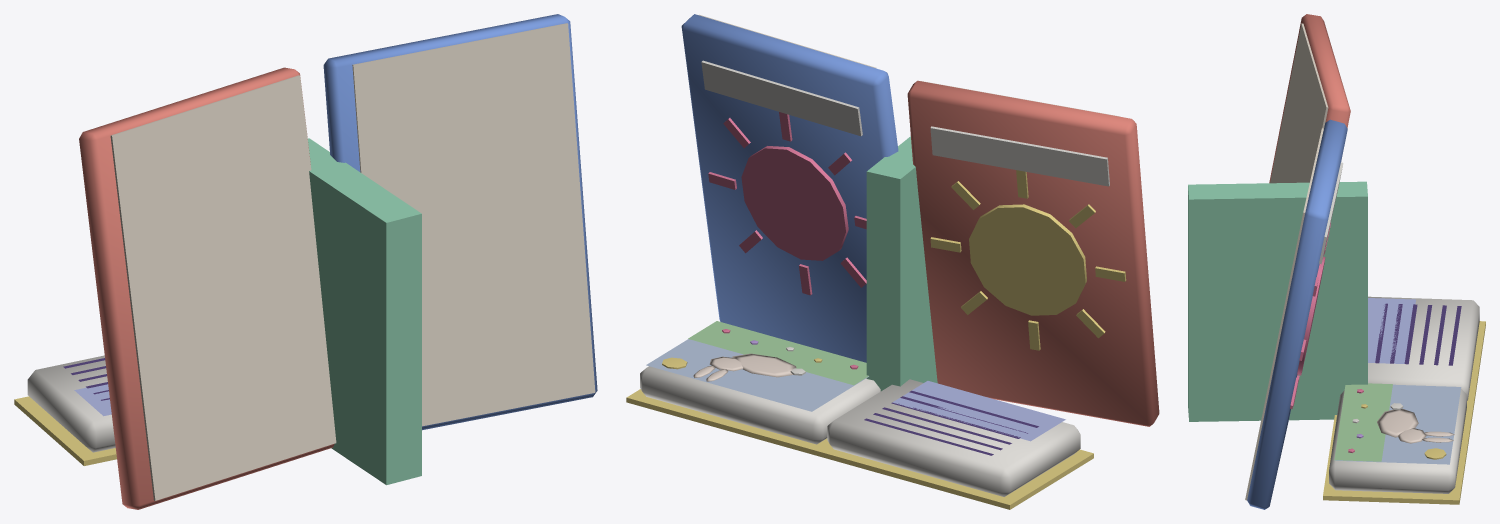
File: books_childrens.glb
3 views of the same model, side by side, from view 1: azimuth 30°, elevation 25°; view 2: azimuth 150°, elevation 25°; view 3: azimuth 270°, elevation 25° (orthographic). The views are drawn at different scales.
Visible parts, largest first — view 1: books_childrens; view 2: books_childrens; view 3: books_childrens.
Boxes of the visible parts, x1,y1,x2,y2 form: books_childrens: (14,14,597,509); books_childrens: (626,14,1159,509); books_childrens: (1188,14,1485,509).
Size of what is drawn, in the model's own units: 0.4 by 0.28 by 0.25.
